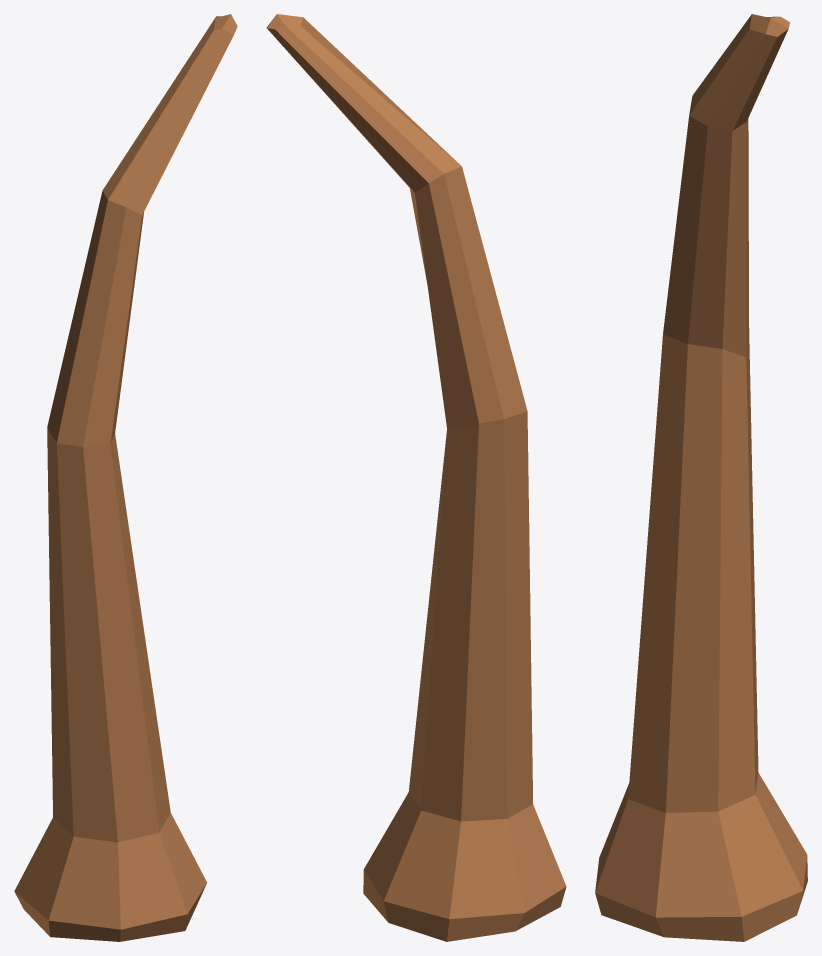
File: Tree13Rot.fbx
The picture shows the model from 3 angles, left to right: view 1: azimuth 30°, elevation 25°; view 2: azimuth 150°, elevation 25°; view 3: azimuth 270°, elevation 25°; orthographic projection. The views are drawn at different scales.
Visible parts, largest first — view 1: Tree13Rot; view 2: Tree13Rot; view 3: Tree13Rot.
Part boxes in pixels (<box>): Tree13Rot: <box>14,14,237,941</box>; Tree13Rot: <box>266,14,566,941</box>; Tree13Rot: <box>595,14,807,941</box>.
Size of the model in its own units: 90.92 by 308 by 61.14.
